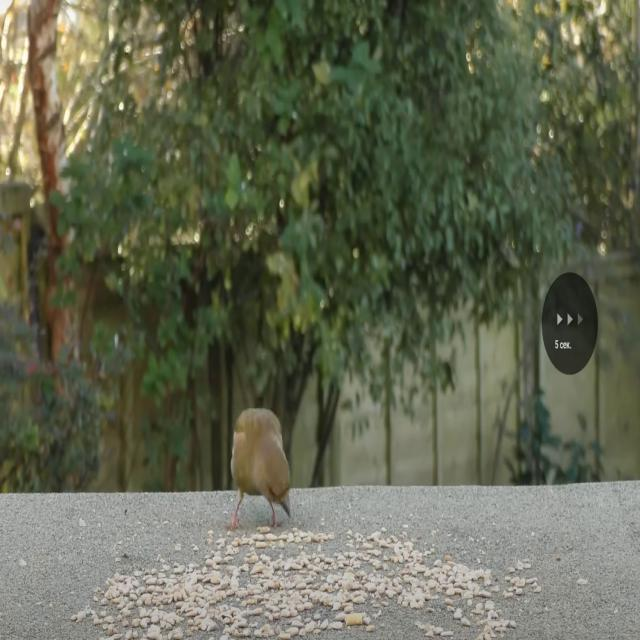beak: (278, 492, 294, 520)
bird: (227, 402, 293, 536)
